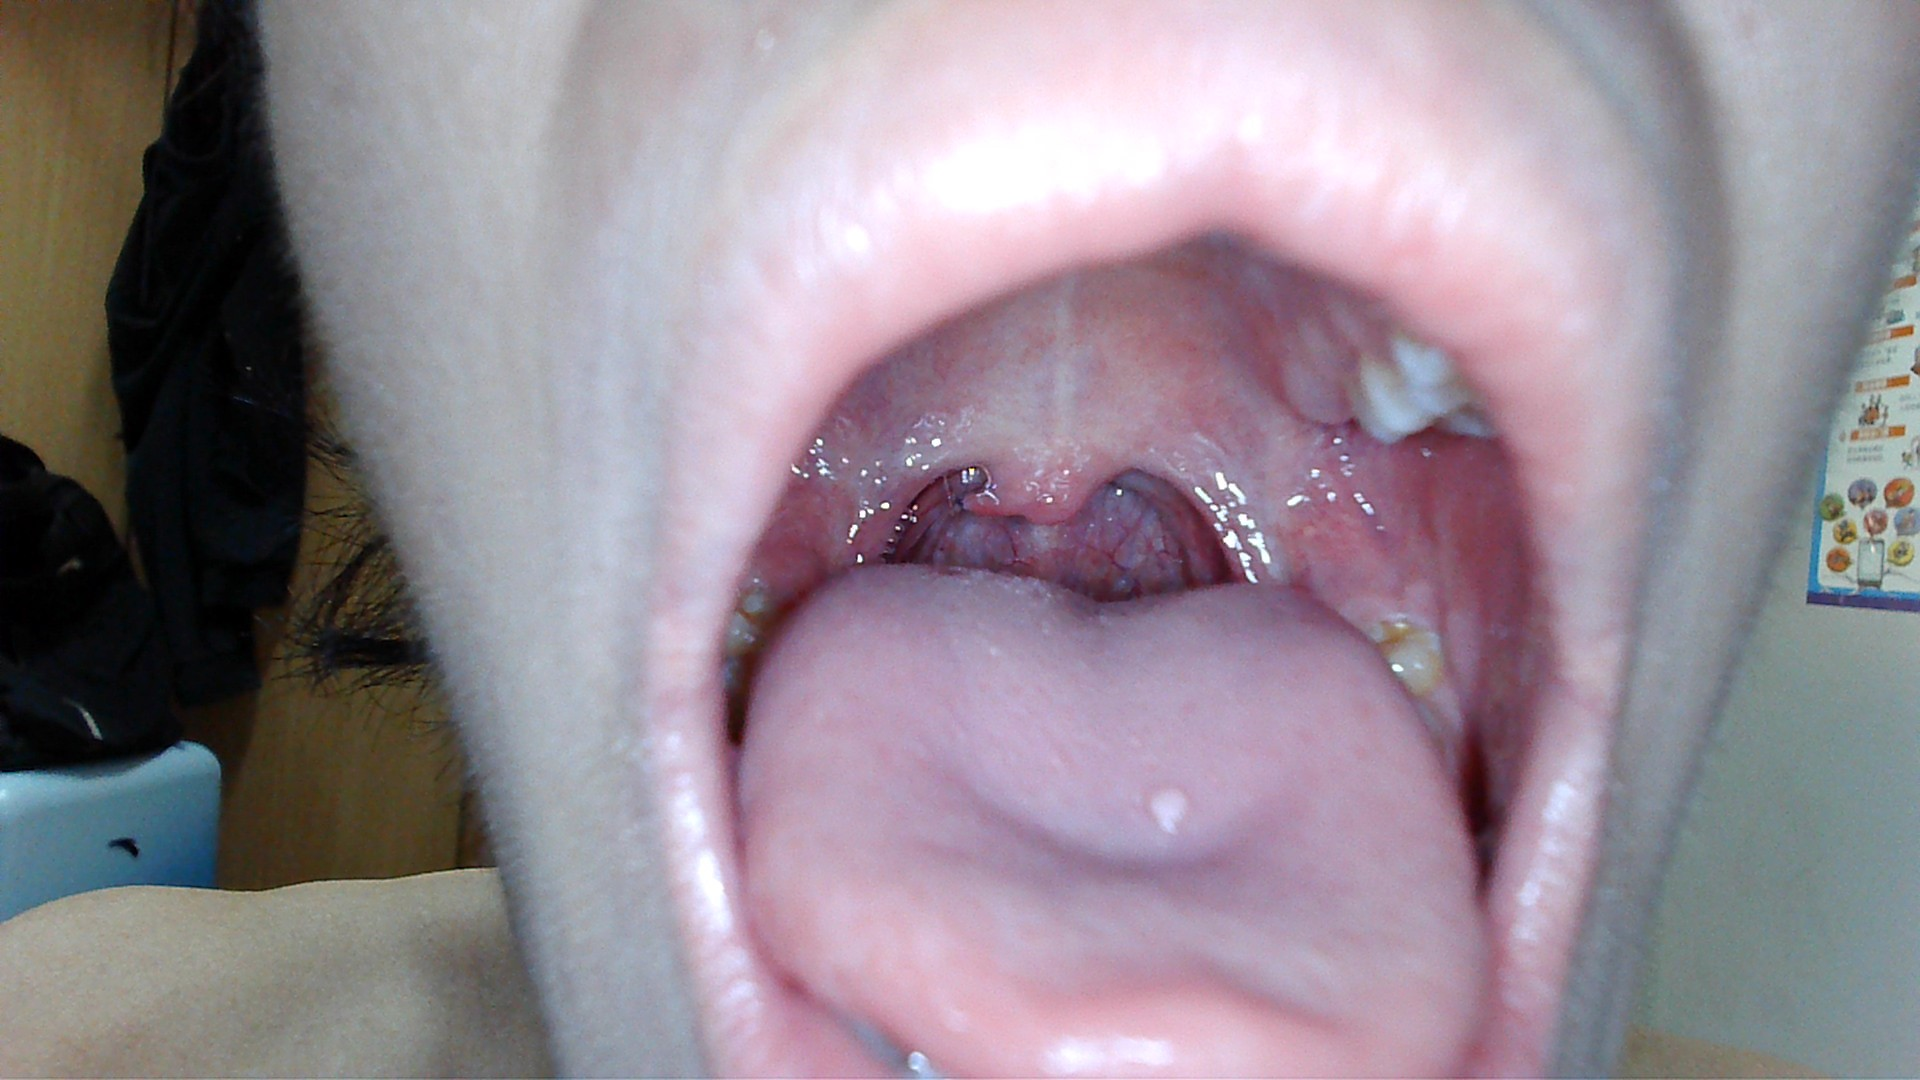throat: (1166, 429, 1274, 580), (833, 436, 945, 556)
